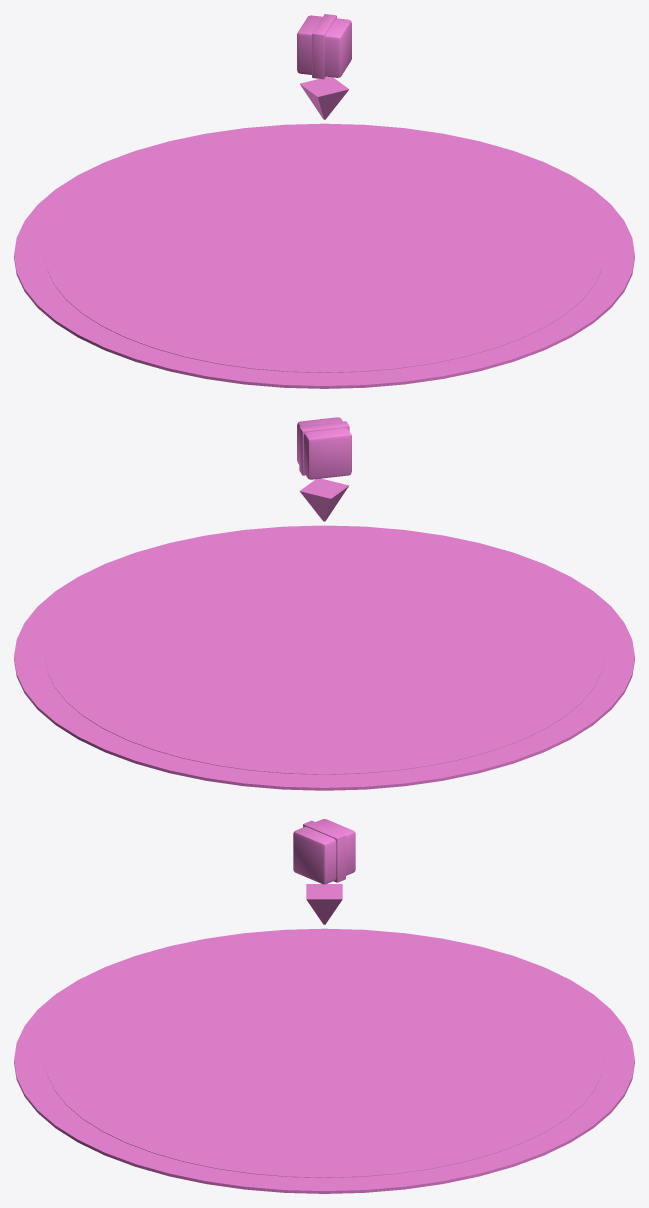
File: Hub_AddressMarker.fbx
3 views of the same model, one above another, from view 1: azimuth 30°, elevation 25°; view 2: azimuth 150°, elevation 25°; view 3: azimuth 270°, elevation 25° (orthographic).
Visible parts, largest first — view 1: Marker; view 2: Marker; view 3: Marker.
Part boxes in pixels (left/top/right/bottom): Marker: left=14, top=14, right=634, bottom=388; Marker: left=14, top=417, right=634, bottom=790; Marker: left=14, top=819, right=634, bottom=1193.
Bounding box in the file's own units: 24 × 9.95 × 24.
Materials: 1 (1 with a texture image).
